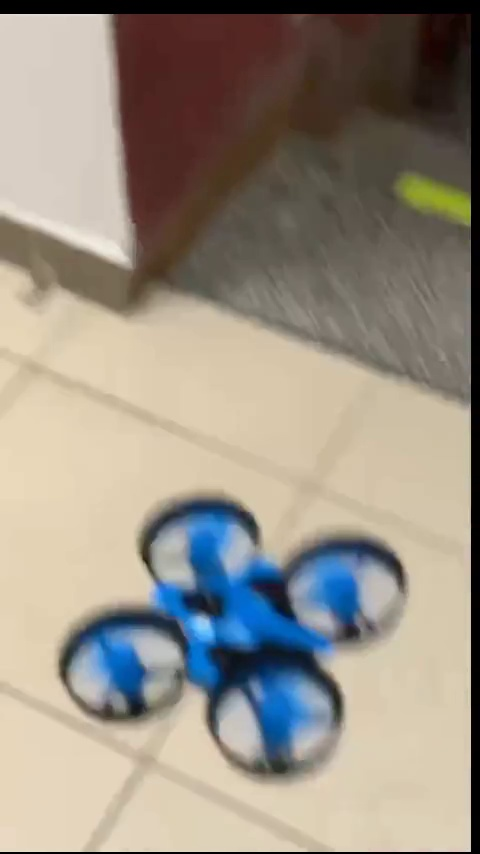drone: (60, 502, 408, 772)
